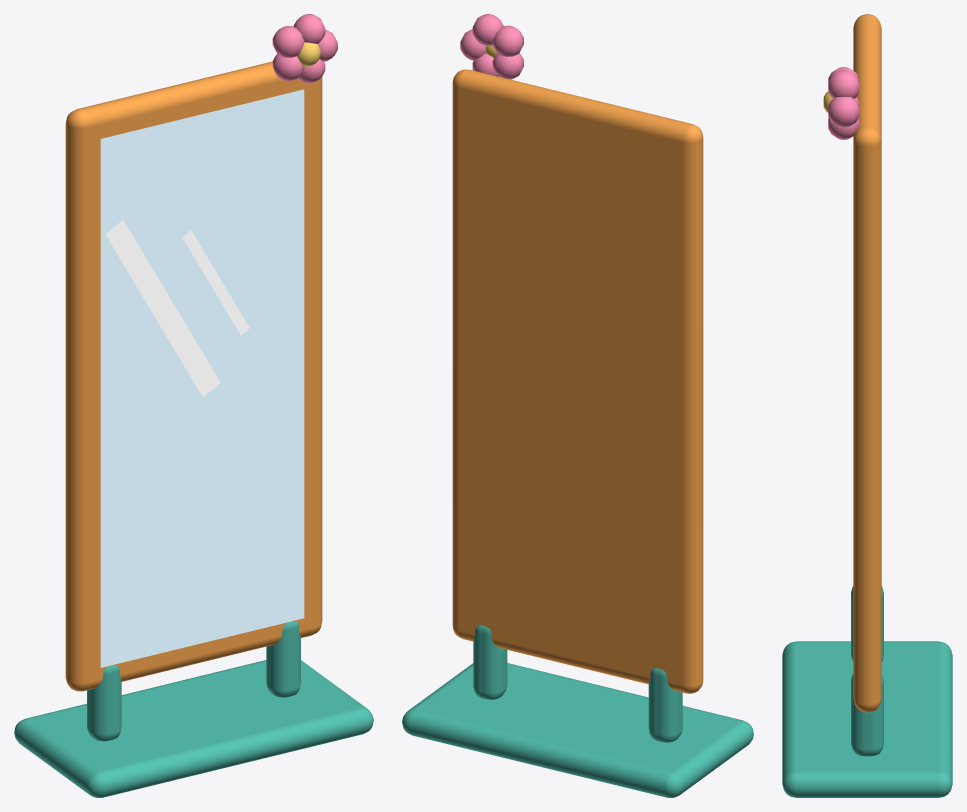
The model's file is mirror.glb.
3 renders of one model, left to right at view 1: azimuth 30°, elevation 25°; view 2: azimuth 150°, elevation 25°; view 3: azimuth 270°, elevation 25°, orthographic. The views are drawn at different scales.
Size of the model in its own units: 0.7 by 1.66 by 0.36.
